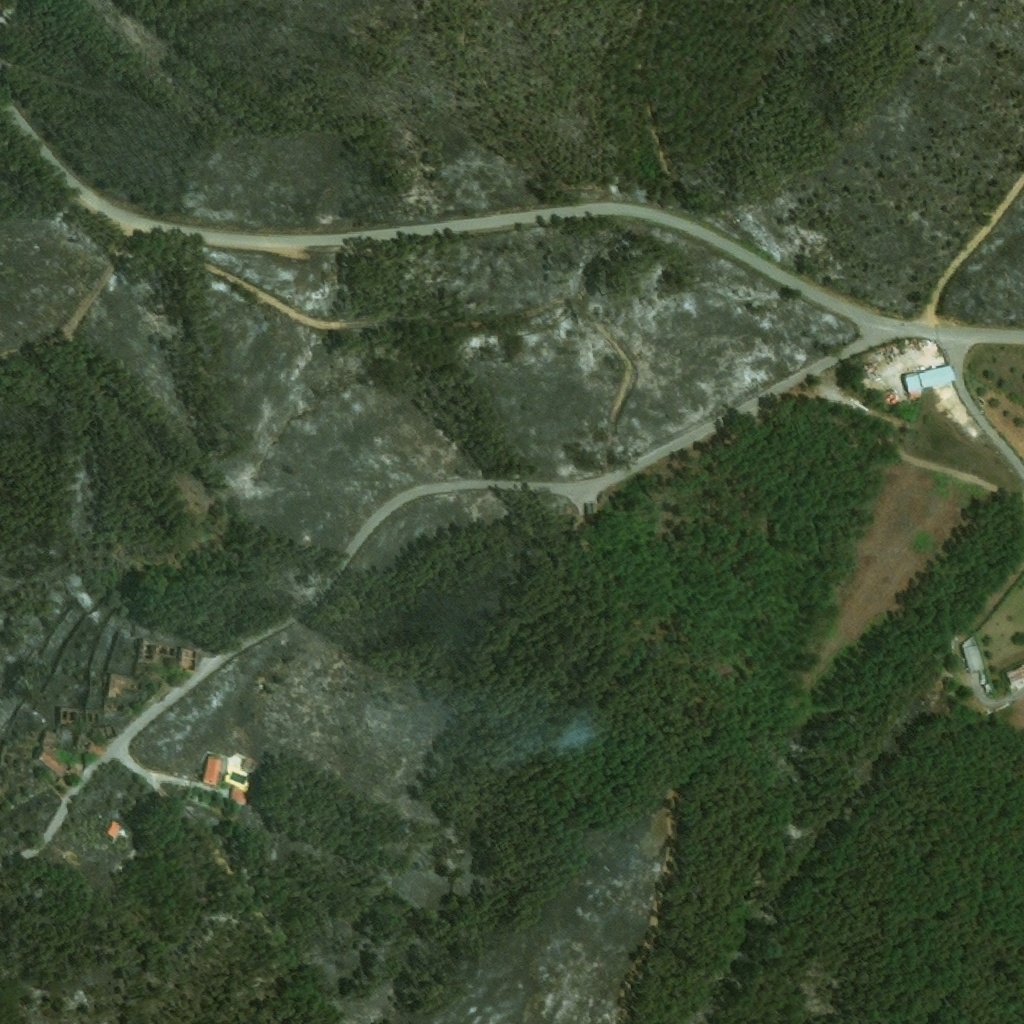0 no-damage: (903, 365, 957, 397), (960, 635, 986, 674), (37, 748, 66, 775), (204, 754, 223, 786), (106, 821, 122, 840), (41, 729, 57, 747), (245, 758, 260, 773), (230, 786, 243, 803)
1 minor-damage: (107, 673, 132, 699)
2 major-damage: (76, 738, 96, 755)
3 destroyed: (139, 638, 179, 666), (181, 647, 200, 672), (60, 708, 86, 726)
4 un-classified: (1006, 665, 1023, 693)
